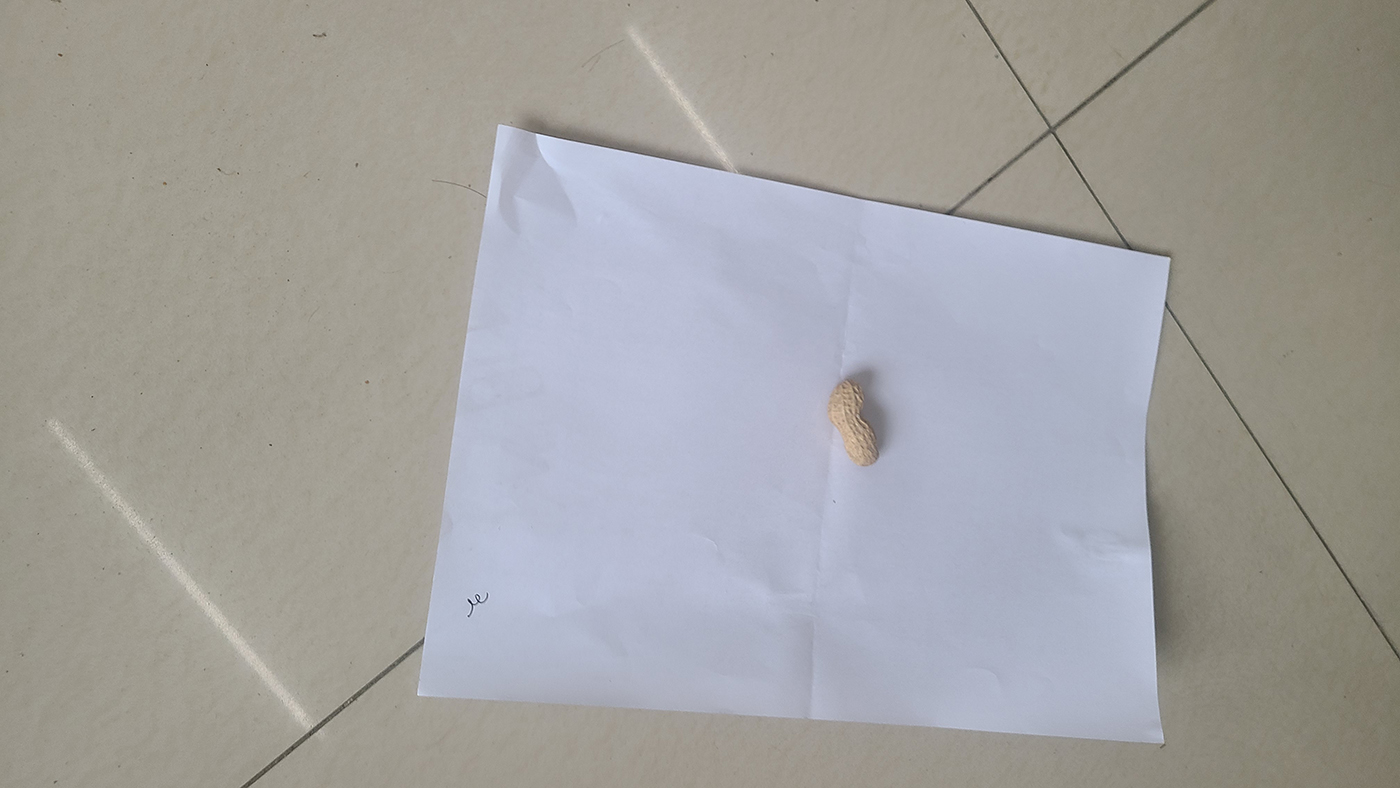h: (827, 377, 881, 470)
